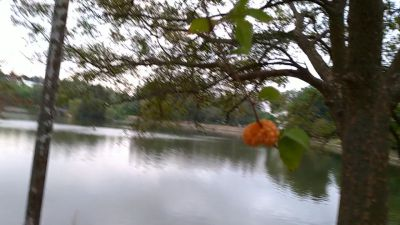eggs: (242, 118, 279, 149)
